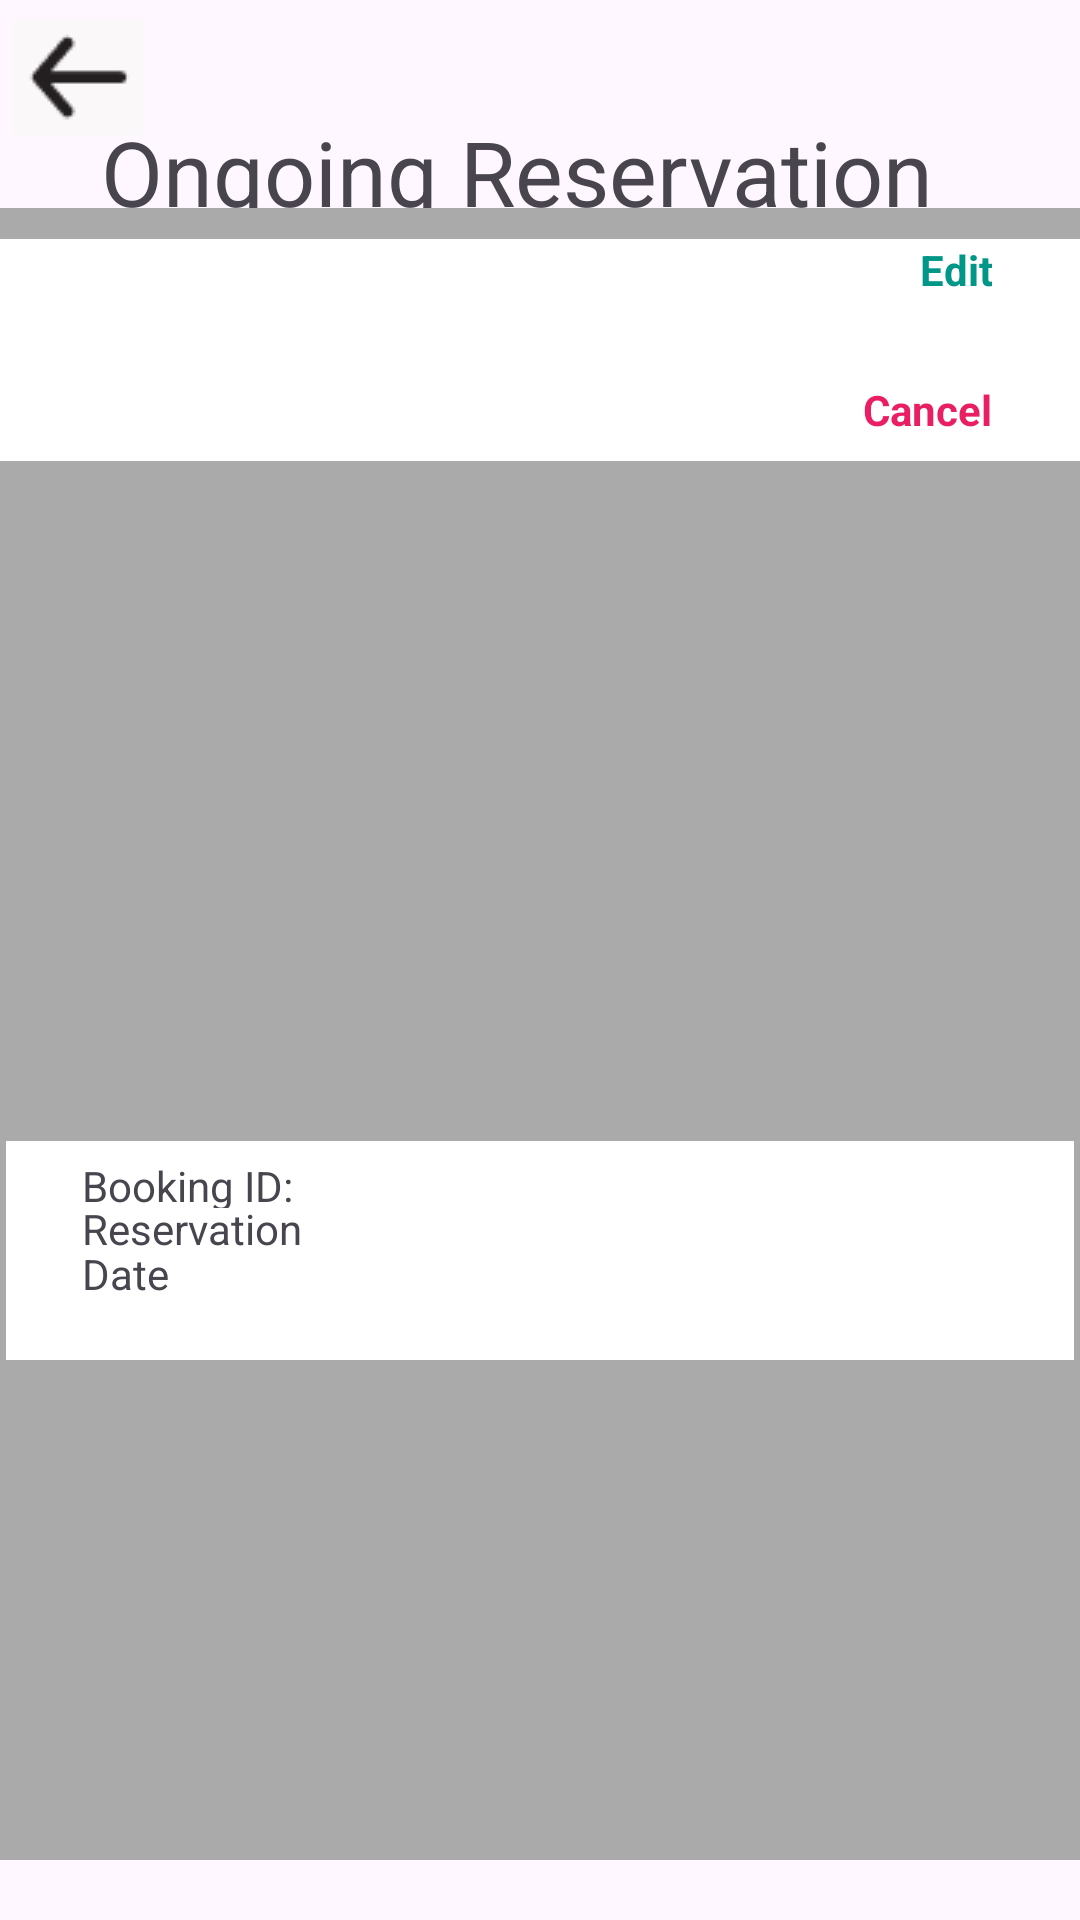

Locate icon controls on the screen. Image size 1080×1920, boxes as BBox(x1, y1, x2, y2).
arrow back: BBox(30, 35, 127, 120)
